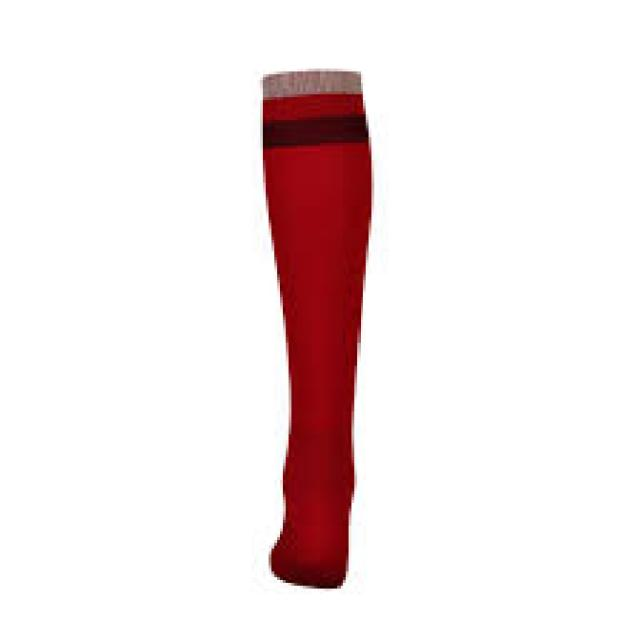sock: (260, 69, 371, 588)
